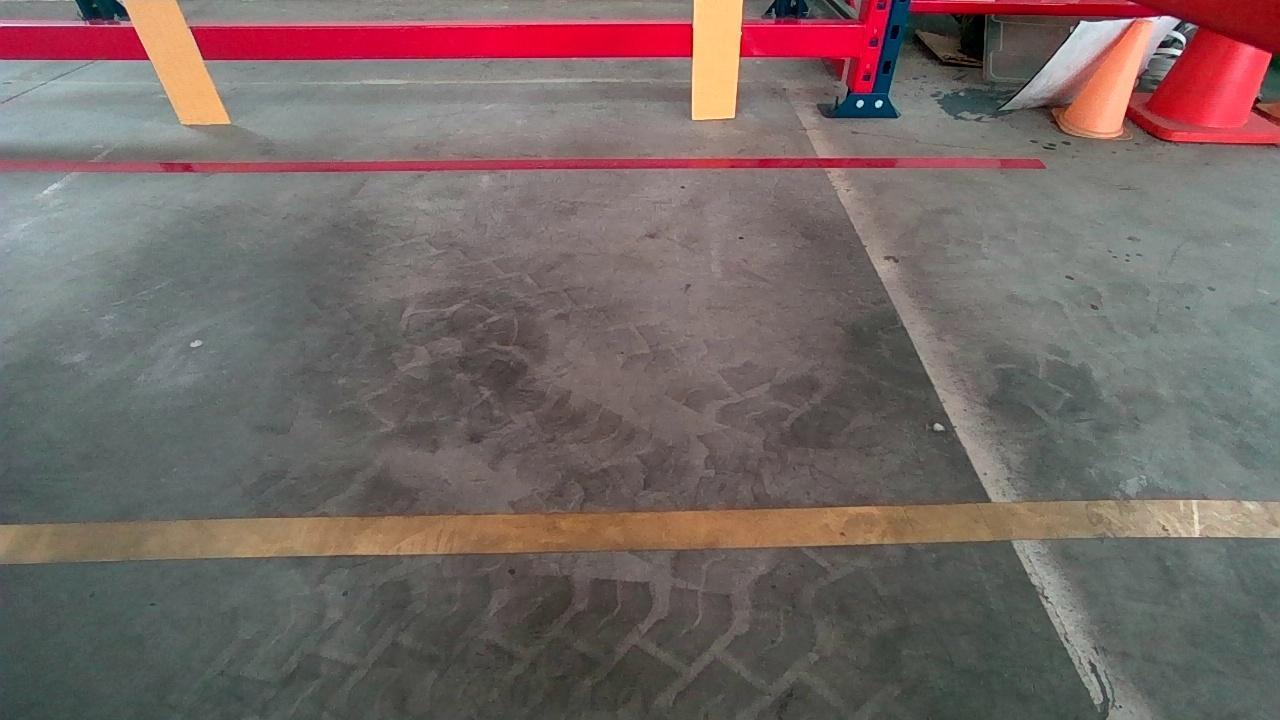h_rack: (5, 14, 861, 60)
orange_strip: (123, 0, 231, 121), (691, 0, 741, 118)
red_line: (5, 150, 1035, 178)
